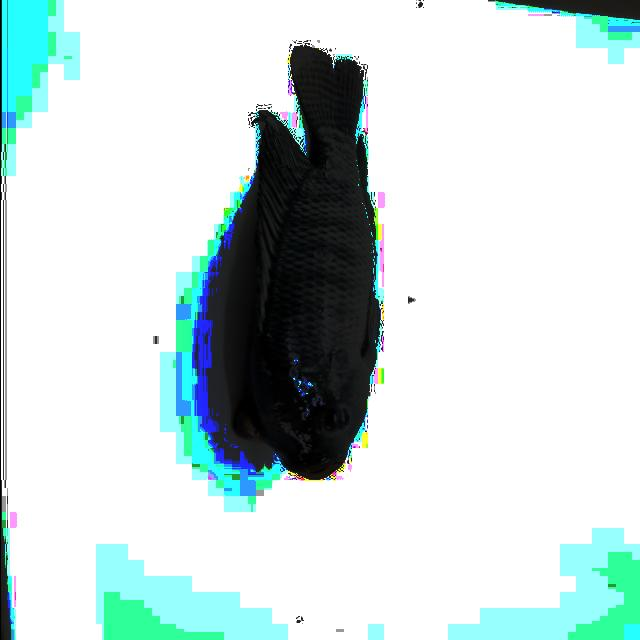Streptococcus: (231, 46, 380, 478), (231, 46, 379, 477)
